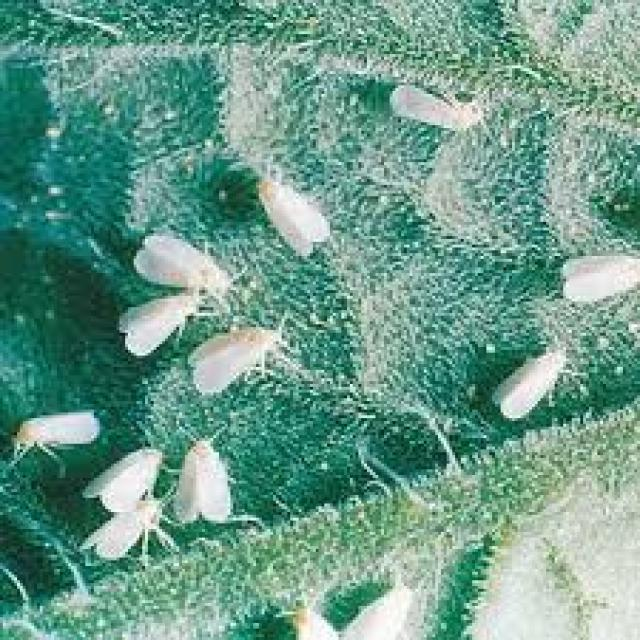Pestalotiopsis: (27, 0, 640, 628), (57, 130, 302, 413), (0, 342, 220, 561), (435, 233, 640, 452), (349, 28, 505, 210)
